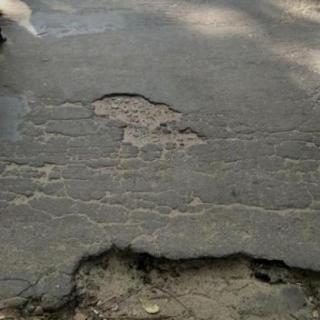pothole: (2, 245, 320, 320), (92, 93, 205, 149)
